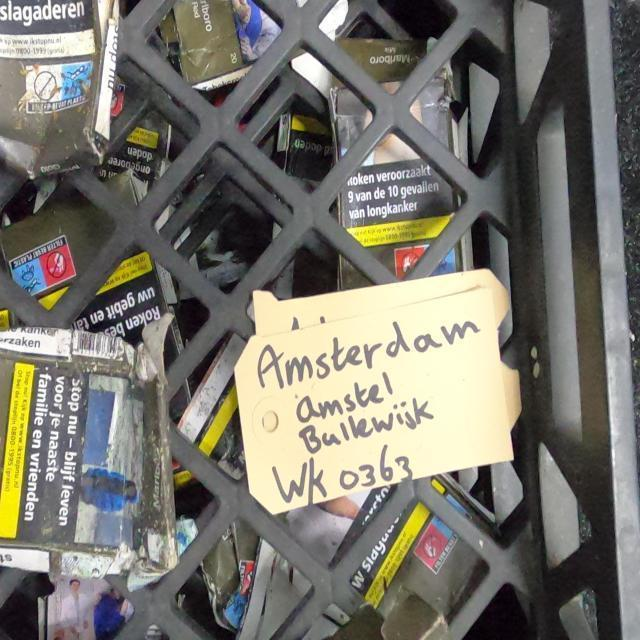Paper: (0, 162, 191, 426), (0, 326, 180, 582), (327, 35, 463, 294), (326, 470, 504, 626), (0, 0, 121, 184), (172, 0, 350, 95), (176, 328, 248, 484)
